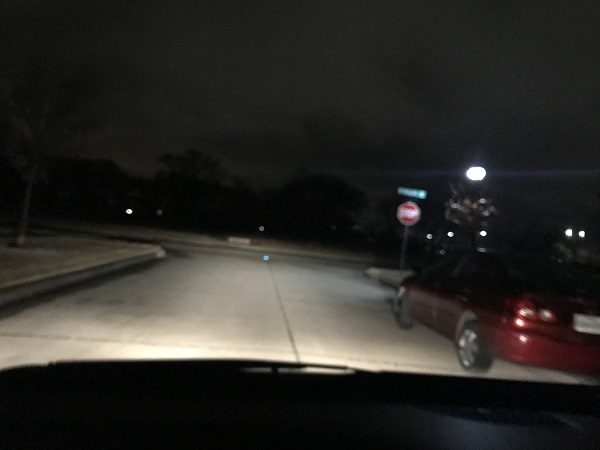car: (390, 236, 600, 378)
stop sign: (393, 201, 422, 228)
